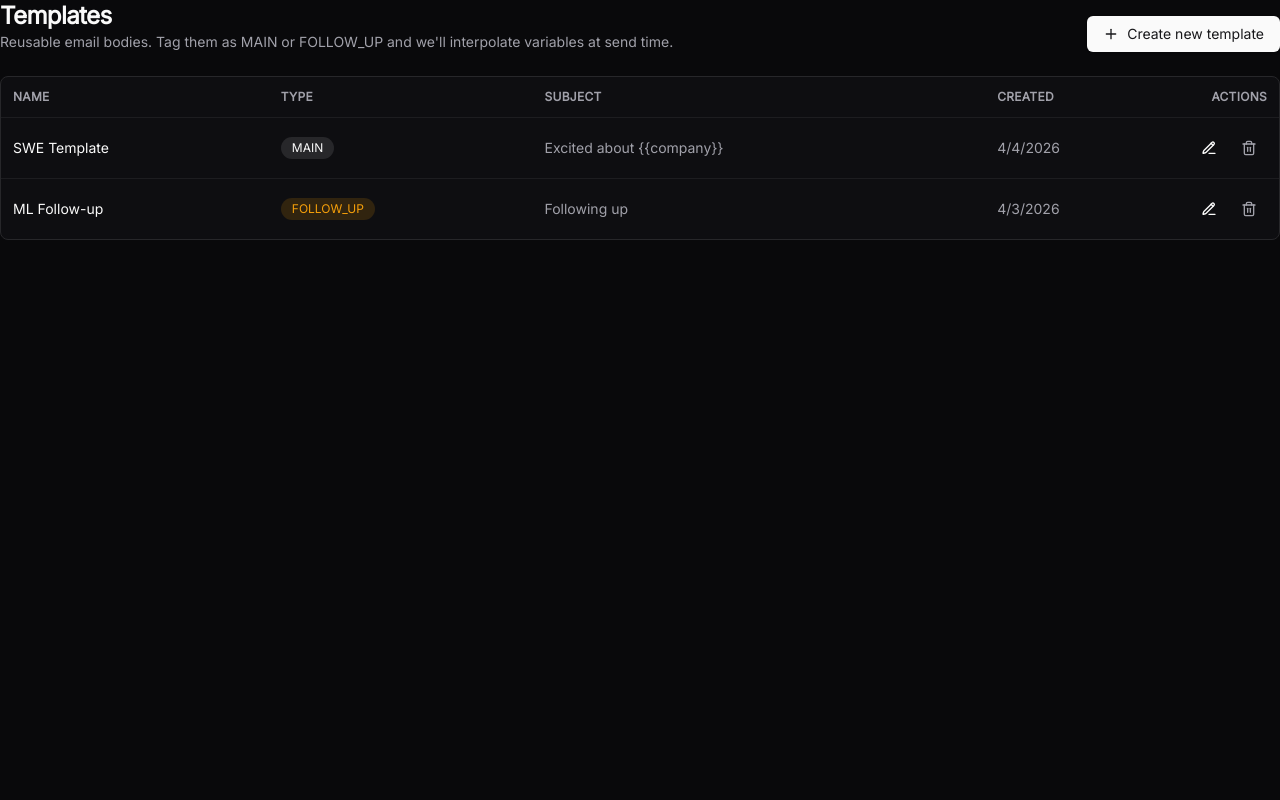
TemplatesPage › delete action opens the confirmation dialog
Expected: the text "SWE Template" is shown, [1,117,269,178]
Click the button named "delete-1": (1249, 148) [1231,130,1267,166]
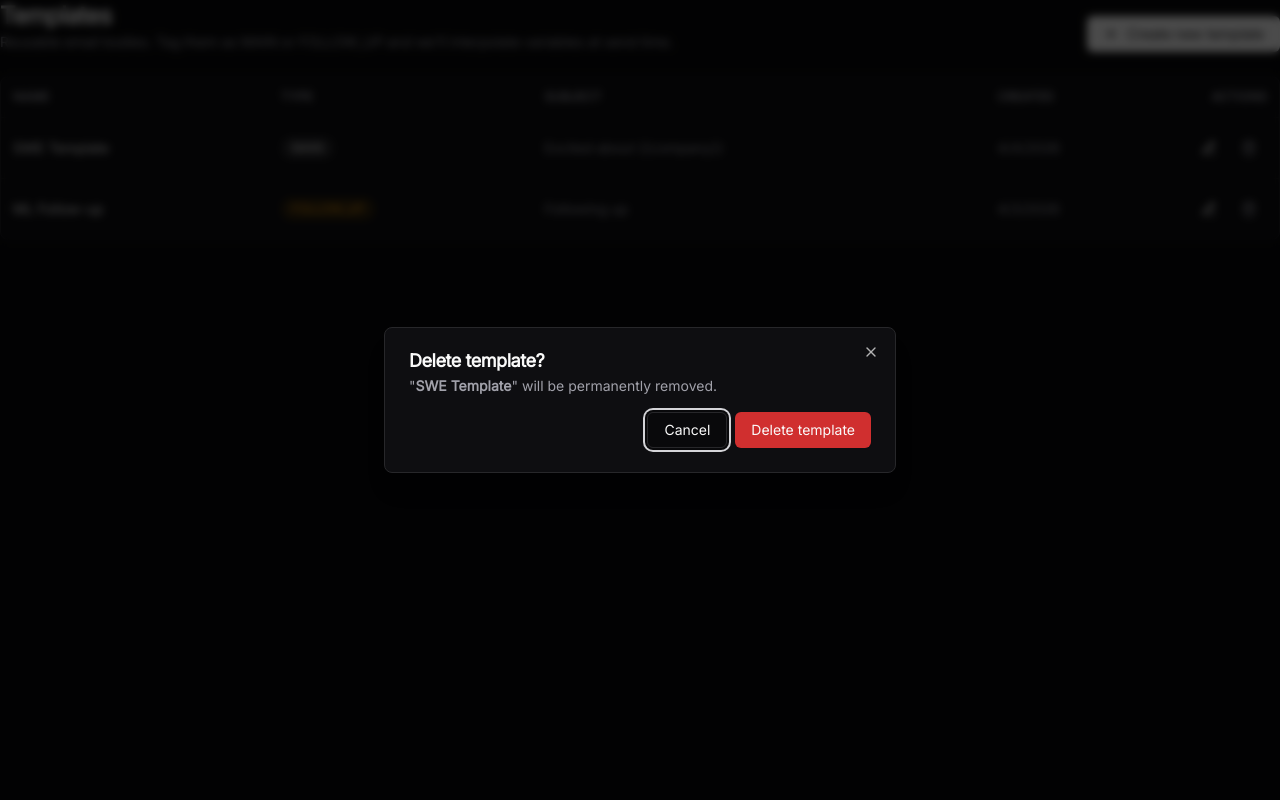
Expected: the heading "Delete template?" is shown, [409,350,544,371]
